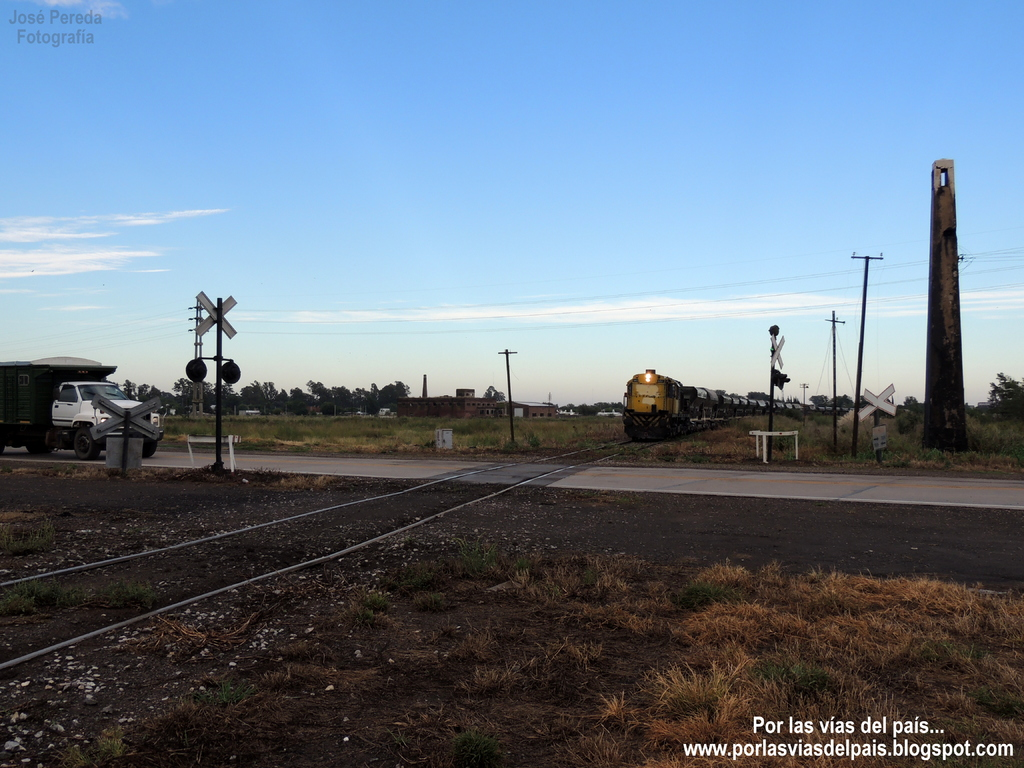truck: (1, 326, 201, 468)
